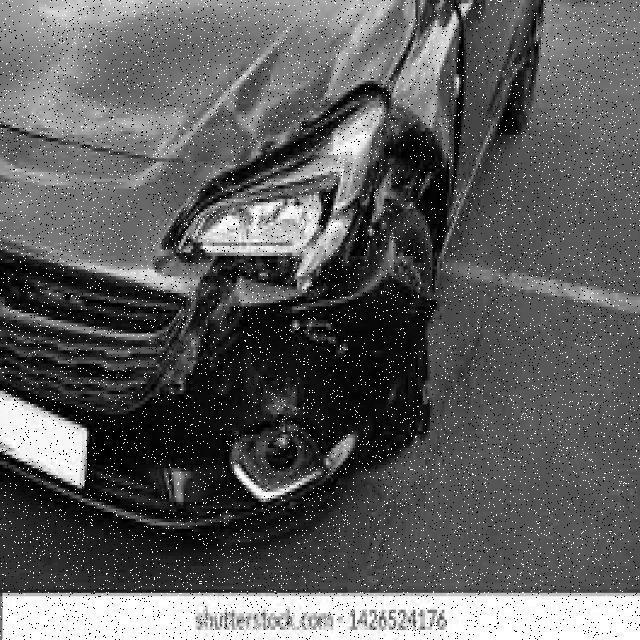Headlight-damage: (169, 84, 396, 293)
fender-dent: (389, 47, 464, 350)
front-bumper-dent: (0, 280, 424, 526)
